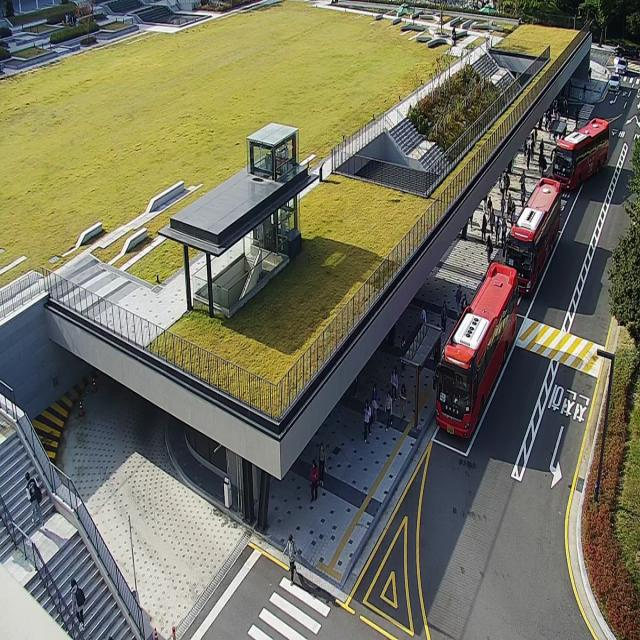queue: (412, 331, 442, 428)
